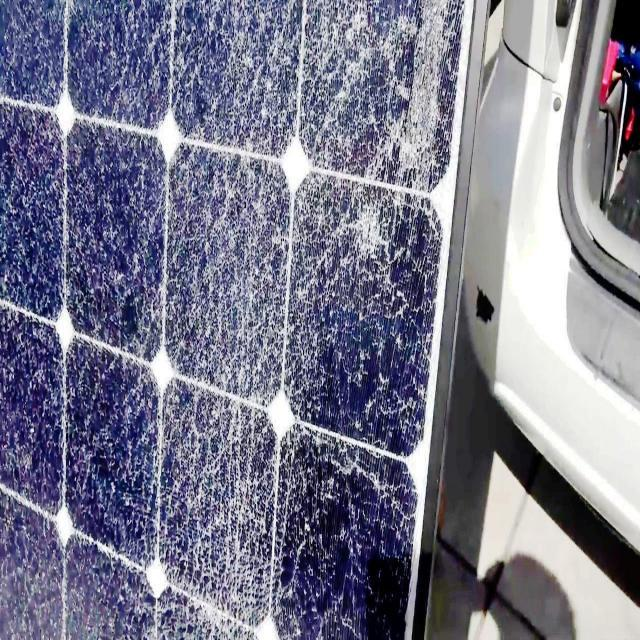faulty: (2, 3, 466, 634)
